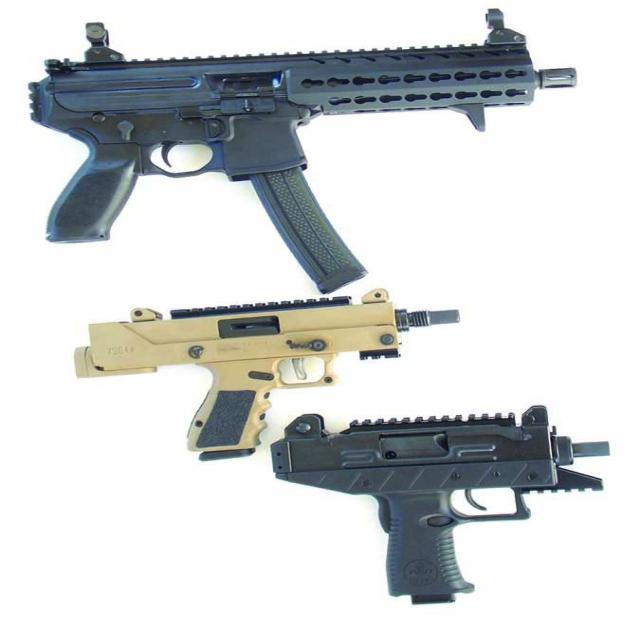SMG: (29, 12, 579, 296), (270, 405, 609, 607), (83, 292, 461, 462)
